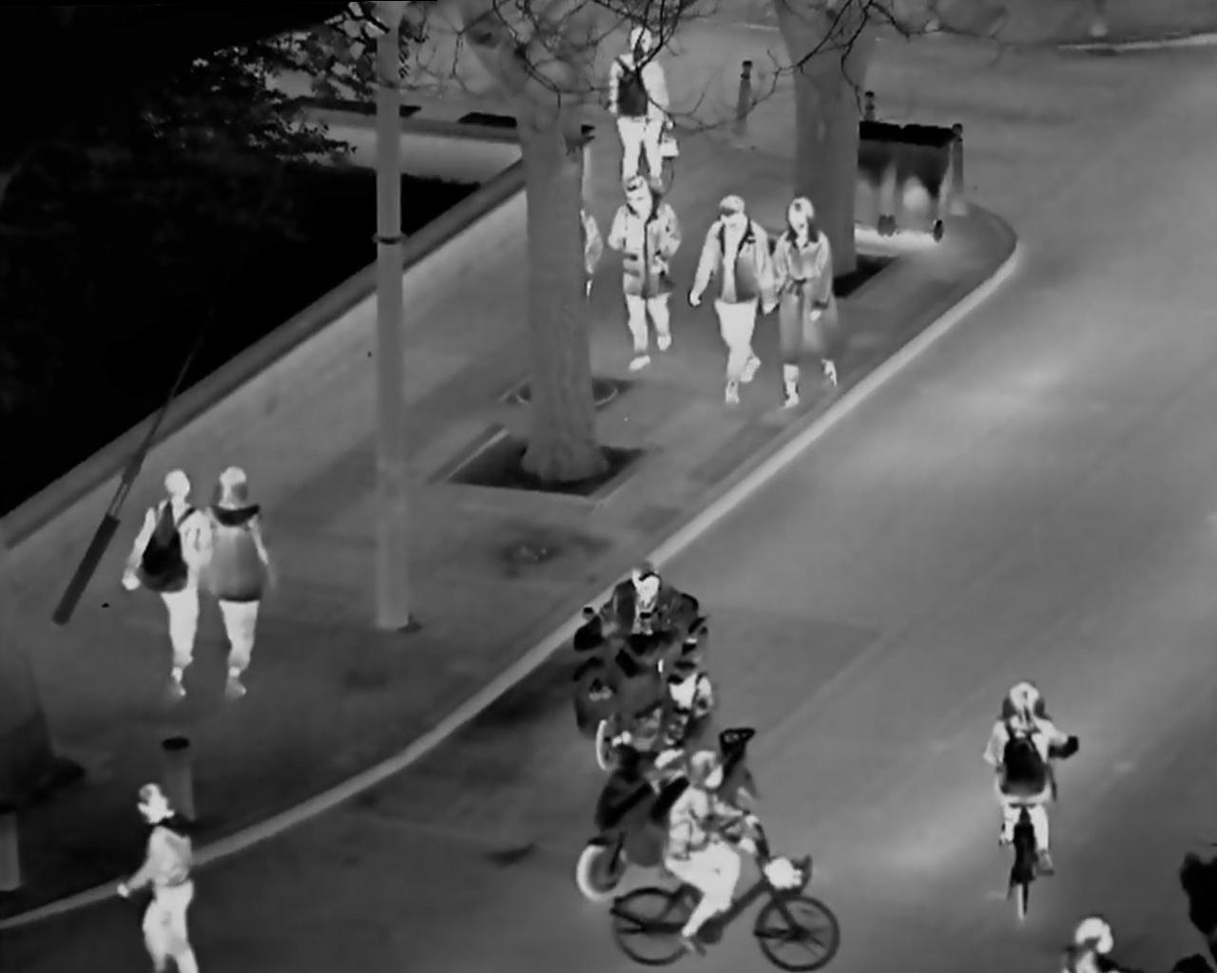person: (567, 545, 720, 753), (961, 658, 1076, 917), (636, 735, 744, 958), (106, 776, 215, 973), (686, 180, 773, 408), (195, 459, 276, 702), (765, 186, 849, 408), (126, 464, 205, 696), (597, 15, 683, 193), (608, 168, 682, 363)
